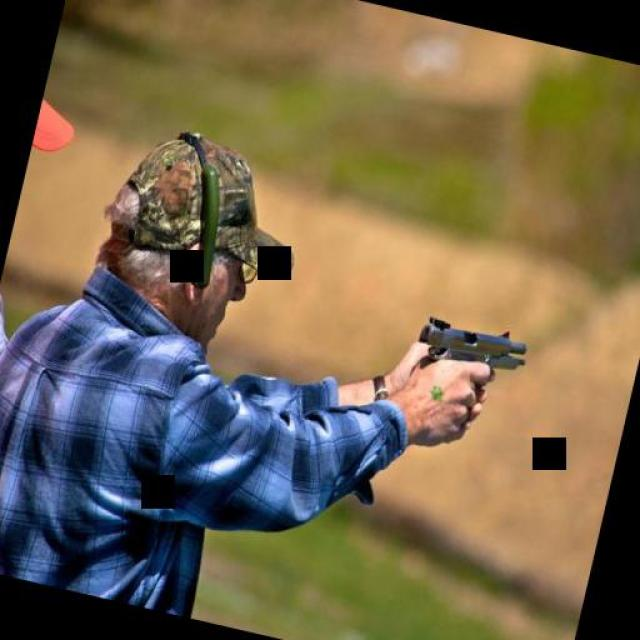gun: (410, 308, 535, 394)
